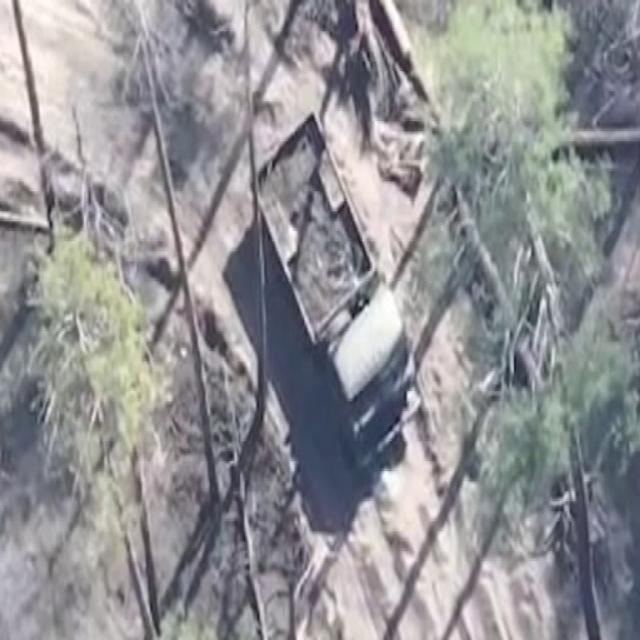TRUCK: (246, 110, 422, 472)
